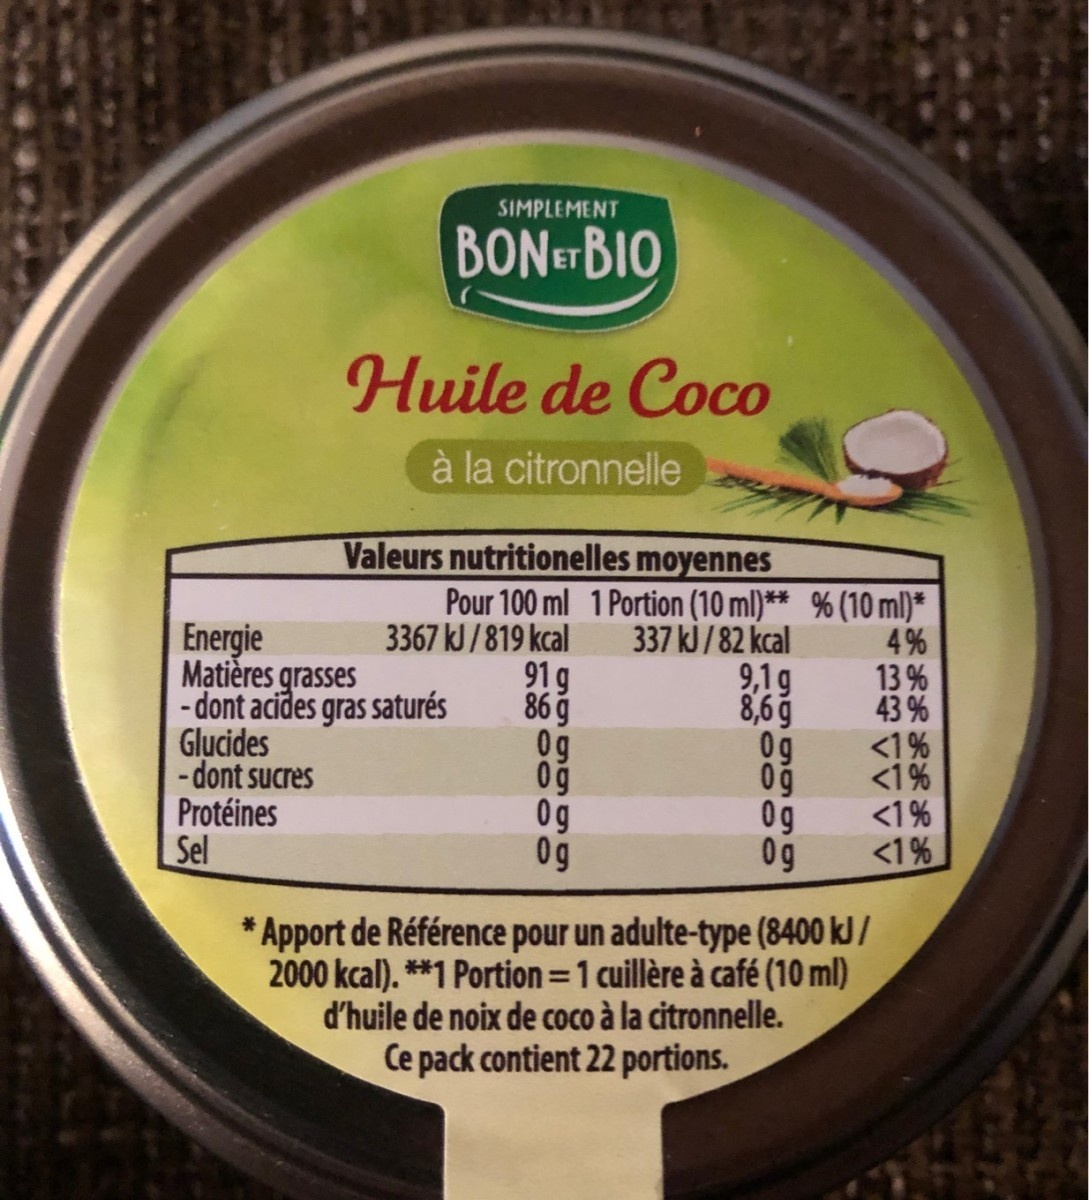column: (173, 577, 572, 895), (587, 574, 797, 897), (811, 574, 933, 899)
table: (157, 528, 953, 898)
